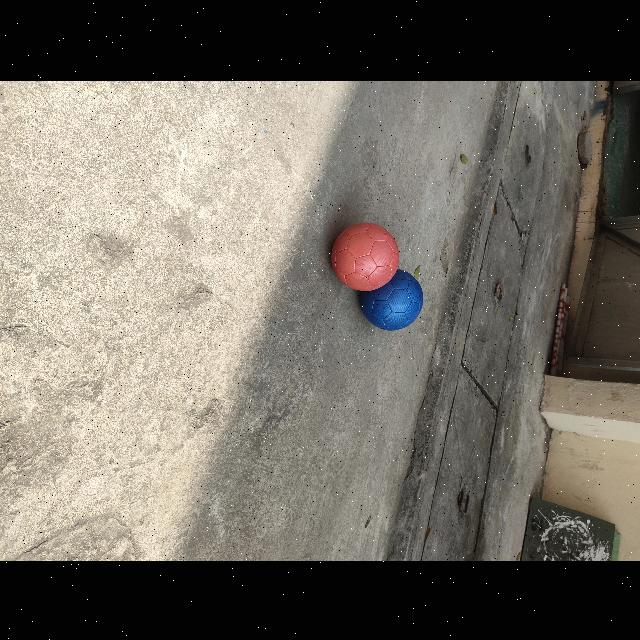B: (360, 268, 424, 329)
R: (331, 222, 400, 290)
